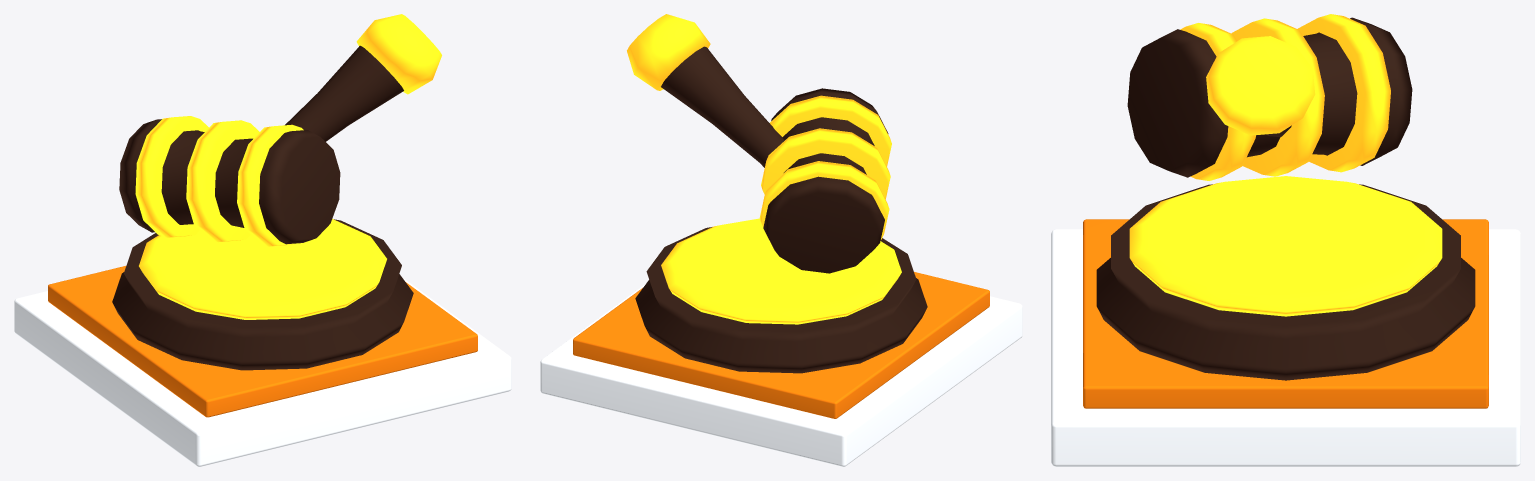
Rendered from auction_gavel.glb.
The picture shows the model from 3 angles, left to right: view 1: azimuth 30°, elevation 25°; view 2: azimuth 150°, elevation 25°; view 3: azimuth 270°, elevation 25°; orthographic projection. The views are drawn at different scales.
Visible parts, largest first — view 1: WarRoomAuctionGavel; view 2: WarRoomAuctionGavel; view 3: WarRoomAuctionGavel.
Boxes of the visible parts, x1=… form: WarRoomAuctionGavel: x1=14, y1=14, x2=511, y2=466; WarRoomAuctionGavel: x1=540, y1=14, x2=1022, y2=466; WarRoomAuctionGavel: x1=1051, y1=14, x2=1520, y2=466.
Size of the model in its own units: 0.44 by 0.42 by 0.44.
